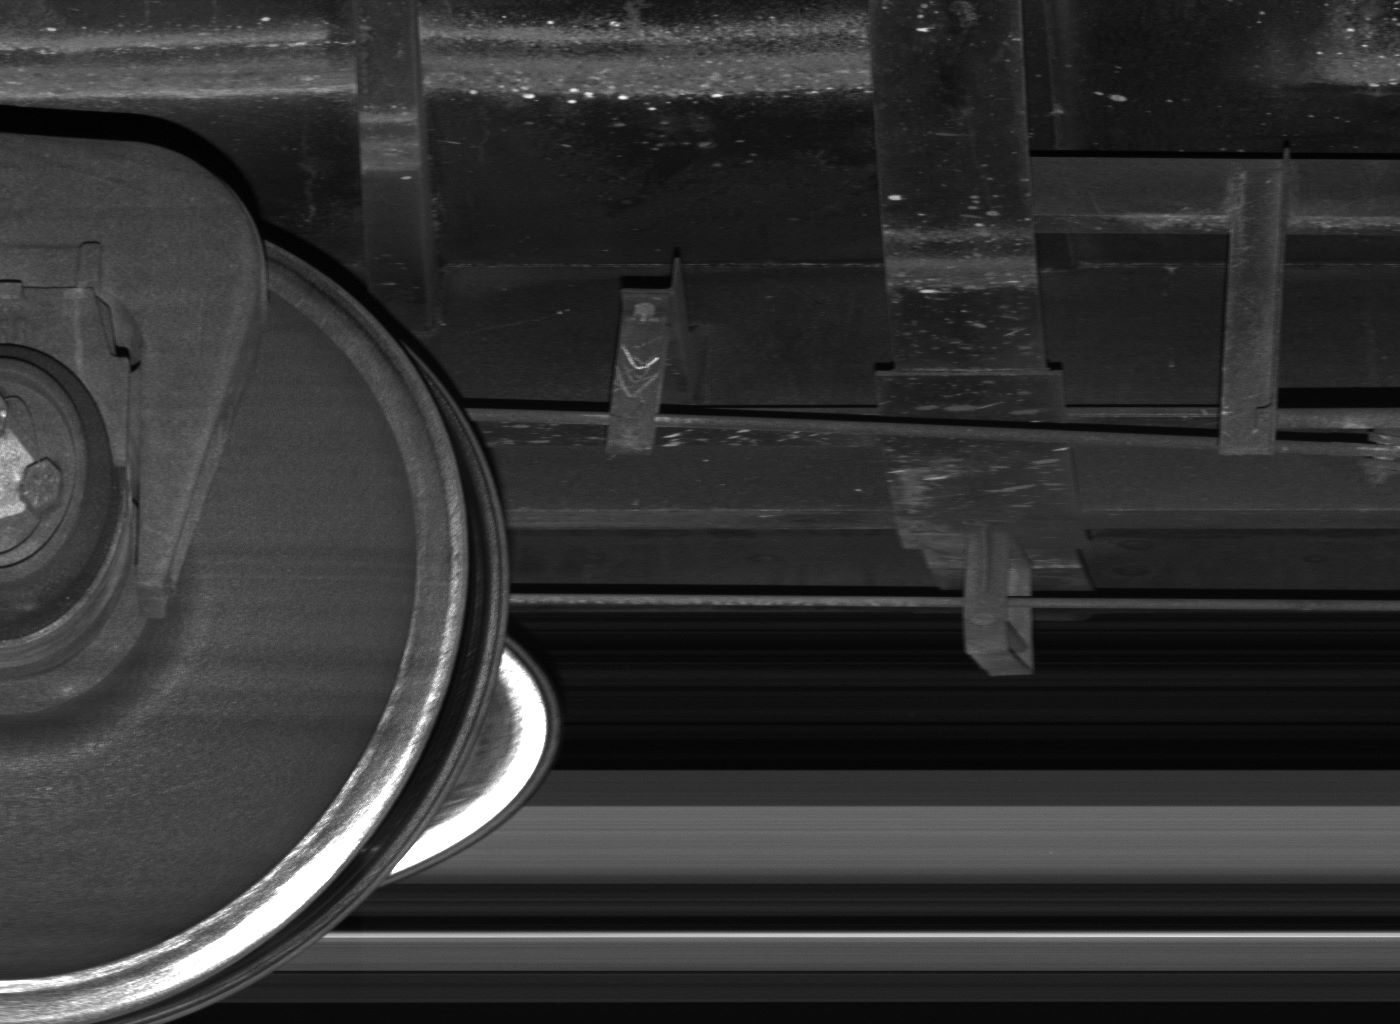normal: (1218, 167, 1282, 455), (604, 257, 690, 453), (963, 525, 1040, 674)
